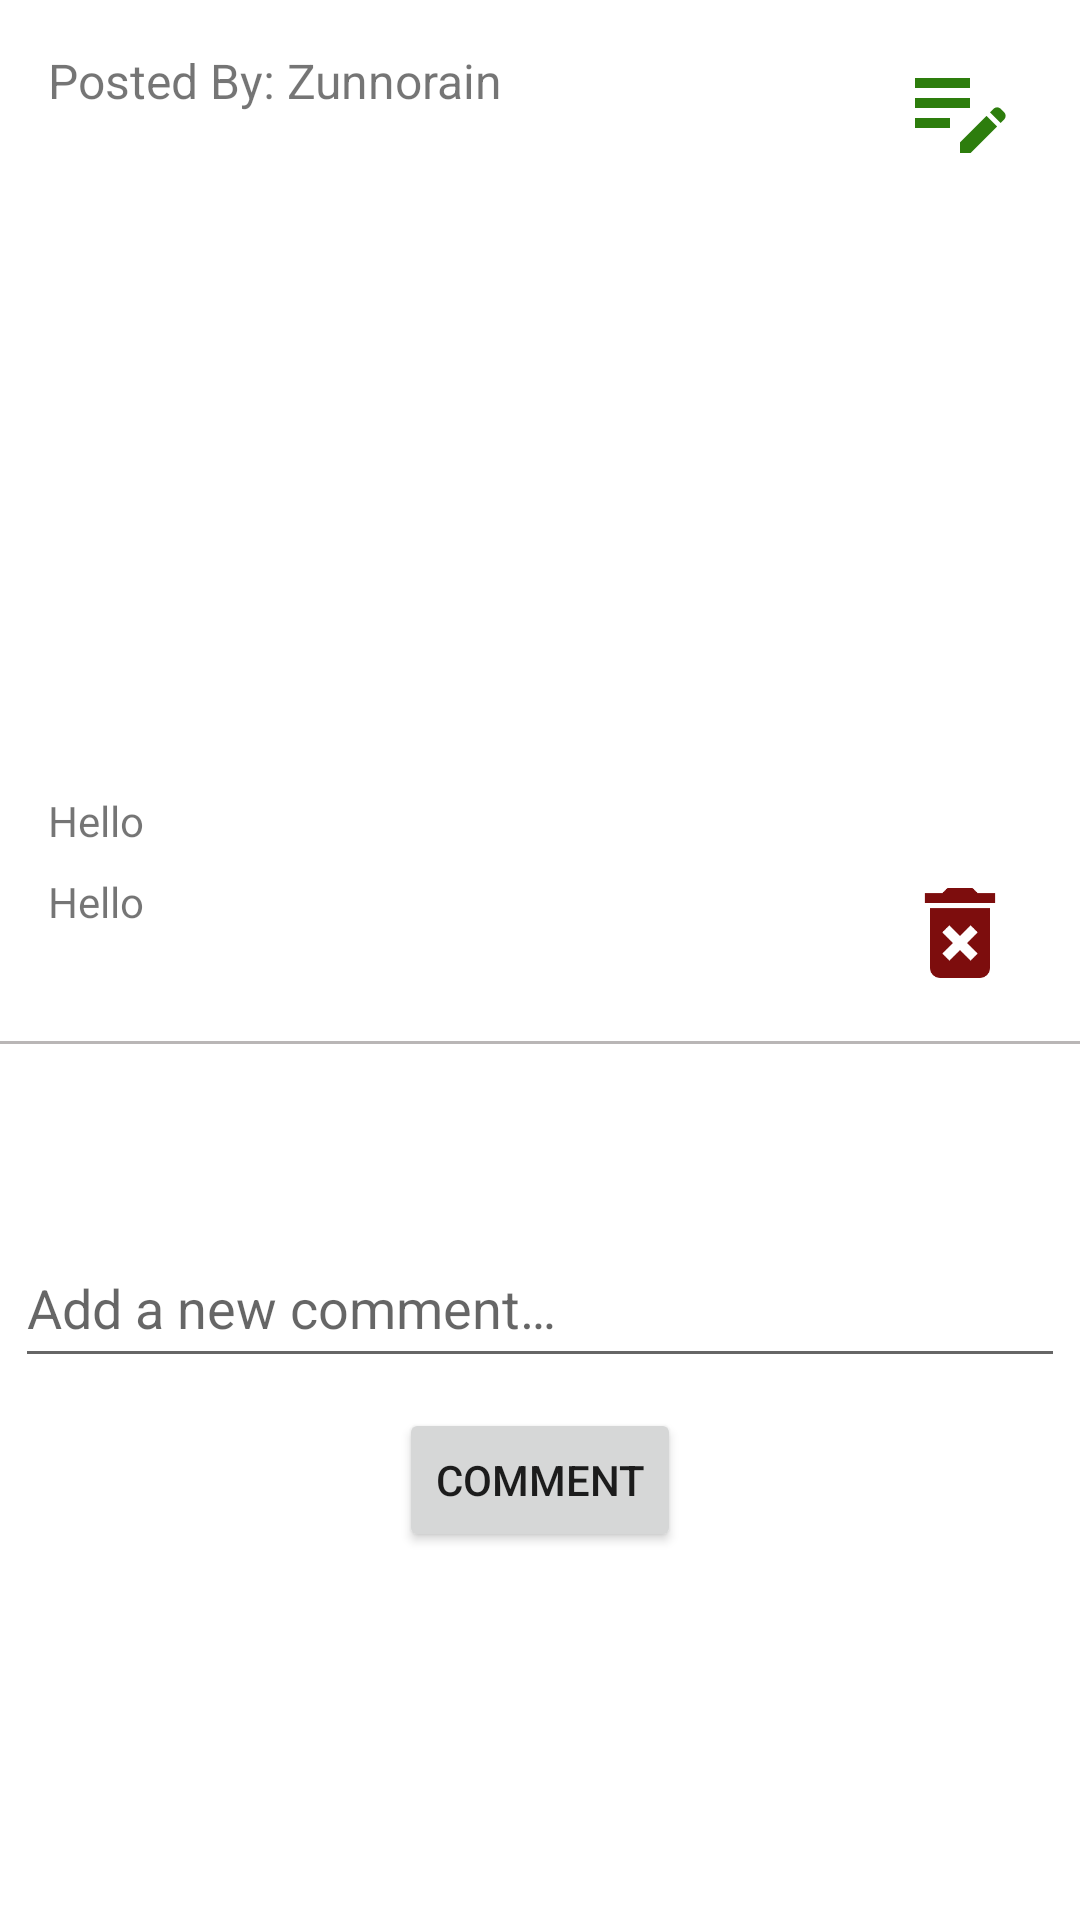

Named icons in this screenshot (1080×1920) and their centers, point (x, y):
delete: point (960, 933)
edit: point (960, 115)
